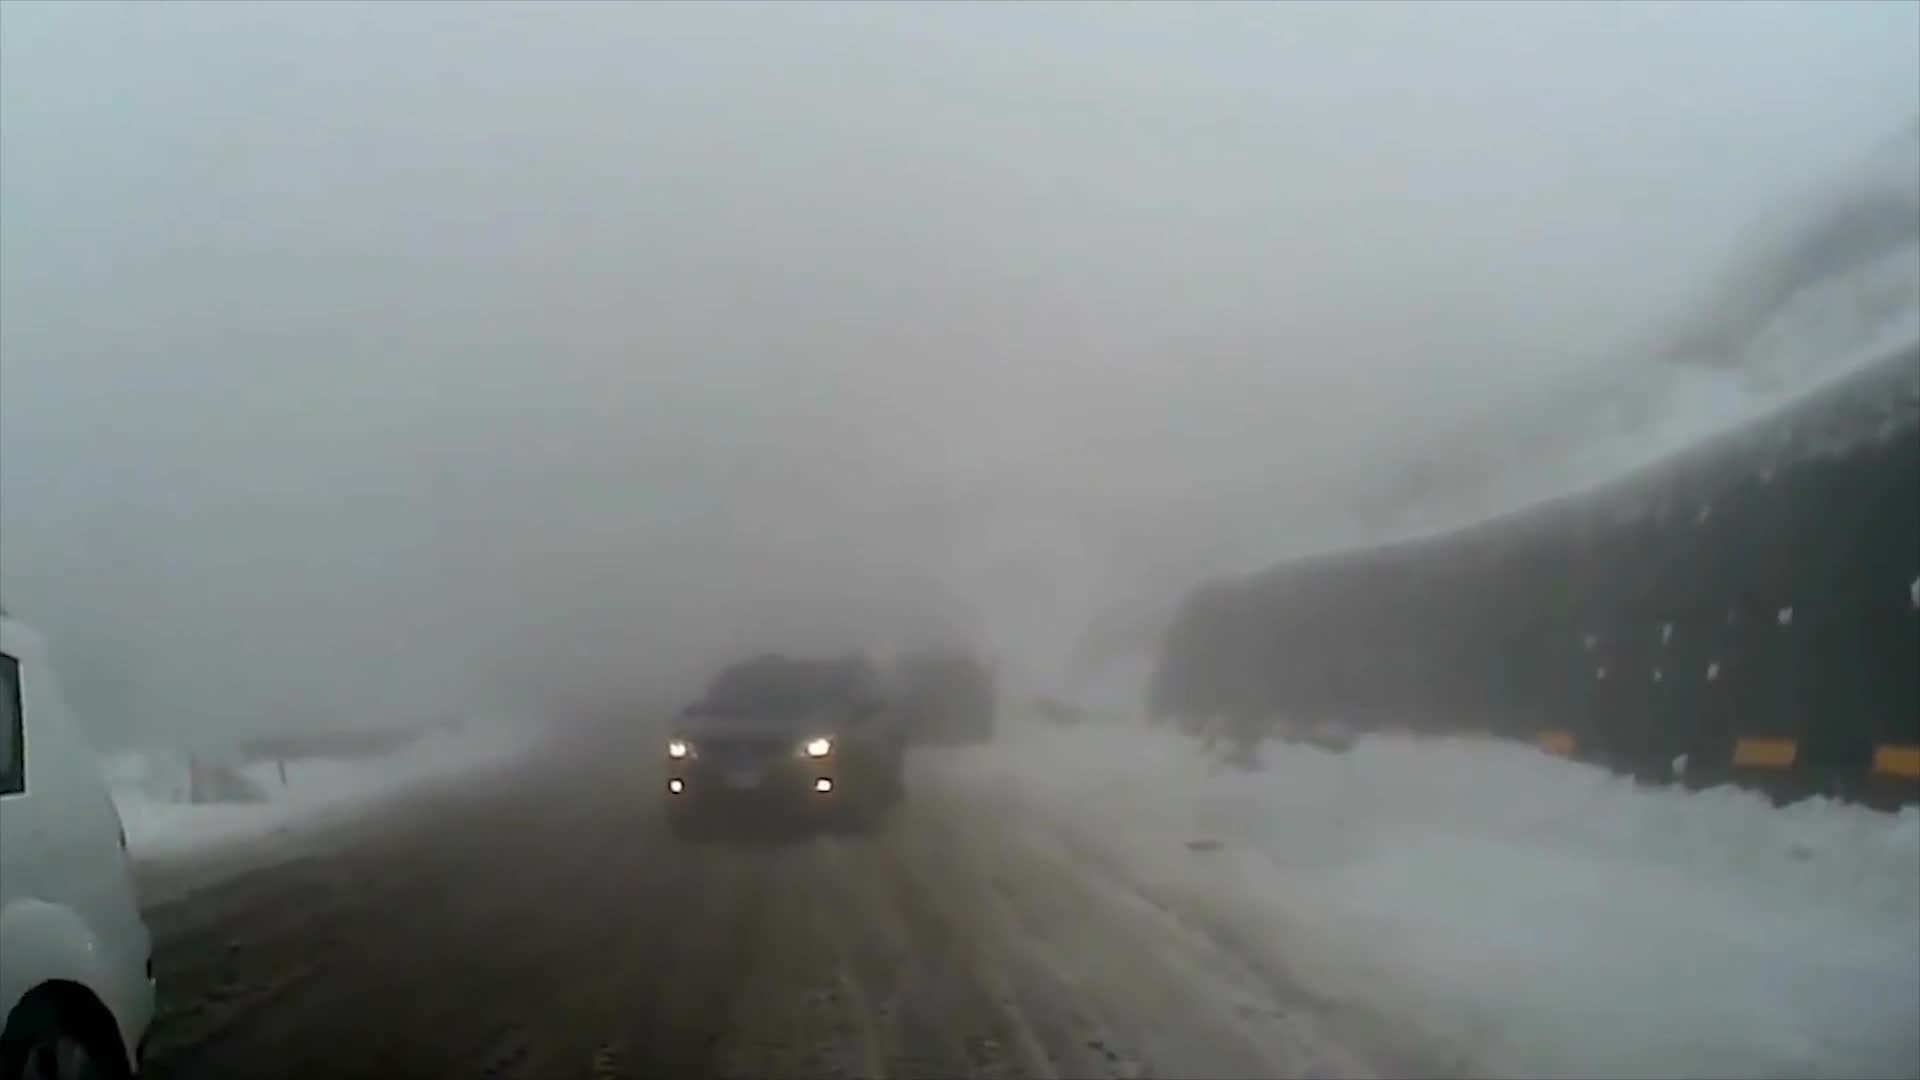vehicle: (0, 609, 158, 1079), (658, 651, 902, 839)
